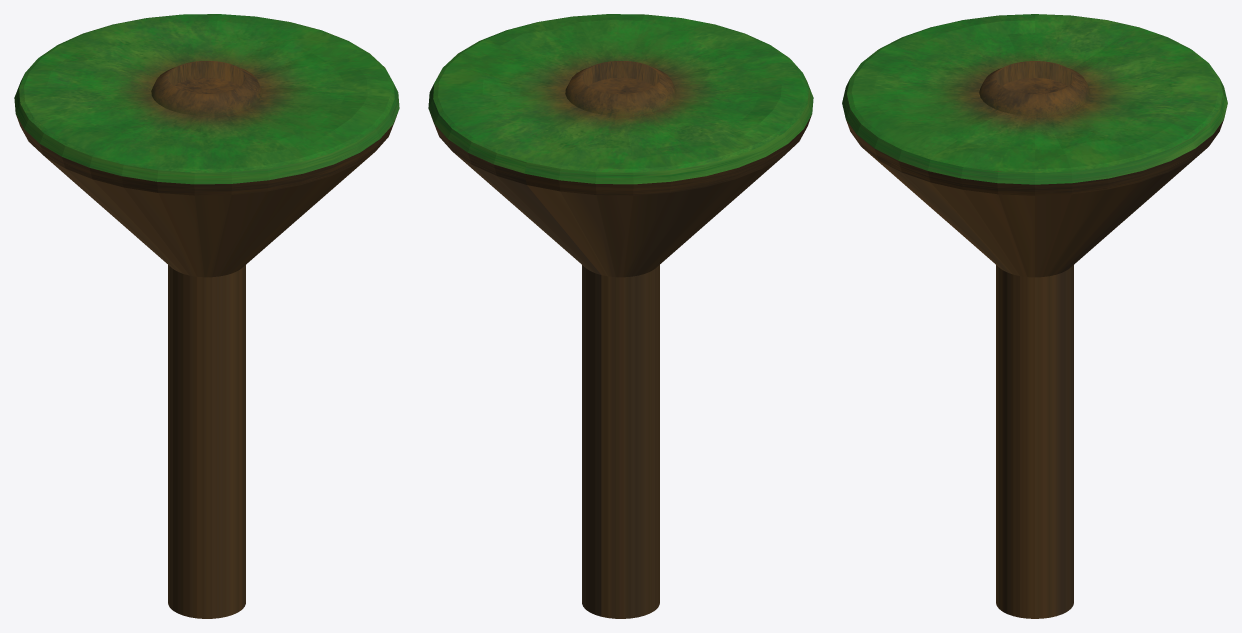
The model's file is Bee Stage 2.fbx.
3 views of the same model, side by side, from view 1: azimuth 30°, elevation 25°; view 2: azimuth 150°, elevation 25°; view 3: azimuth 270°, elevation 25° (orthographic).
Visible parts, largest first — view 1: stage, edge; view 2: stage, edge; view 3: stage, edge.
Part boxes in pixels (box(x1,y1,x2,y2)): stage: box(14, 14, 399, 618); edge: box(151, 61, 262, 115); stage: box(428, 14, 813, 618); edge: box(565, 61, 676, 115); stage: box(842, 14, 1227, 618); edge: box(979, 61, 1090, 116).
Bounding box in the file's own units: 3075 × 4613 × 3075.
